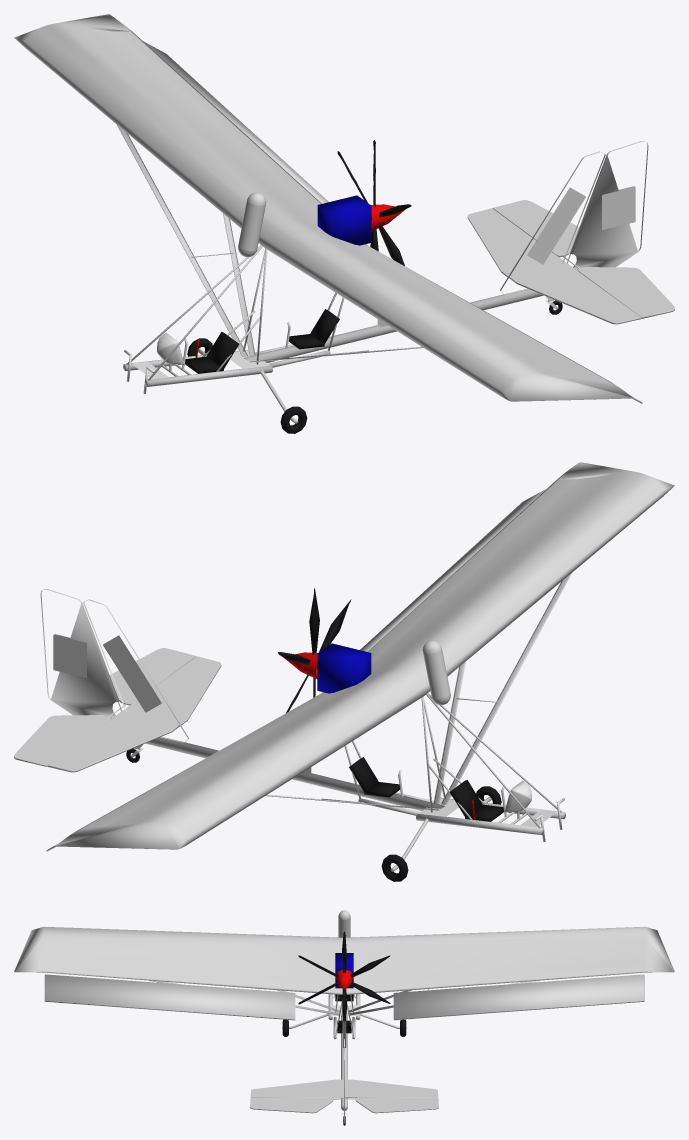
The model's file is dragonfly.dae.
The picture shows the model from 3 angles, top to bottom: view 1: azimuth 30°, elevation 25°; view 2: azimuth 150°, elevation 25°; view 3: azimuth 270°, elevation 25°; orthographic projection. The views are drawn at different scales.
Parts seen in each view (by area): view 1: Wing, Stabilizer, Rudder, Elevator, box, rect_006, disk_001, Flaperon_Right, cylinder_013, Tank, PropBlades, FrontSeat_001 (+3 smaller); view 2: Wing, Stabilizer, Rudder, Elevator, box, rect_006, disk_001, Flaperon_Left, cylinder_012, PropBlades, Tank, FrontSeat_001 (+3 smaller); view 3: Wing, Flaperon_Left, Flaperon_Right, Stabilizer, Elevator, PropBlades, disk_001, box.
Part boxes in pixels (bbox=[...]): Wing: bbox=[14, 14, 633, 401]; Stabilizer: bbox=[467, 208, 640, 324]; Rudder: bbox=[569, 141, 648, 270]; Elevator: bbox=[492, 200, 674, 318]; box: bbox=[317, 195, 371, 245]; rect_006: bbox=[500, 151, 605, 294]; disk_001: bbox=[244, 289, 543, 362]; Flaperon_Right: bbox=[143, 41, 328, 203]; cylinder_013: bbox=[117, 125, 247, 356]; Tank: bbox=[238, 192, 266, 257]; PropBlades: bbox=[337, 140, 411, 265]; FrontSeat_001: bbox=[185, 331, 238, 373]; Wing: bbox=[55, 462, 674, 849]; Stabilizer: bbox=[48, 656, 221, 772]; Rudder: bbox=[40, 589, 119, 718]; Elevator: bbox=[14, 648, 196, 766]; box: bbox=[317, 643, 371, 693]; rect_006: bbox=[83, 599, 188, 742]; disk_001: bbox=[145, 737, 444, 810]; Flaperon_Left: bbox=[360, 489, 545, 651]; cylinder_012: bbox=[441, 573, 571, 804]; PropBlades: bbox=[278, 588, 351, 712]; Tank: bbox=[422, 640, 450, 705]; FrontSeat_001: bbox=[450, 779, 503, 821]; Wing: bbox=[14, 926, 674, 994]; Flaperon_Left: bbox=[44, 974, 295, 1020]; Flaperon_Right: bbox=[393, 974, 644, 1020]; Stabilizer: bbox=[250, 1079, 438, 1098]; Elevator: bbox=[250, 1097, 438, 1113]; PropBlades: bbox=[298, 931, 390, 1021]; disk_001: bbox=[341, 1011, 347, 1110]; box: bbox=[335, 953, 353, 988].
Size of the model in its own units: 6.08 by 10.78 by 2.59.
